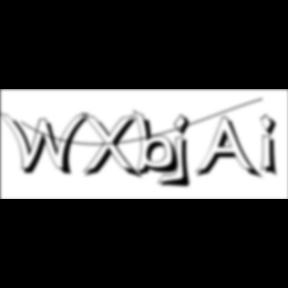A: (196, 116, 264, 182)
W: (0, 110, 96, 178)
X: (81, 112, 145, 182)
b: (134, 109, 186, 179)
i: (260, 112, 284, 180)
j: (170, 113, 198, 191)
